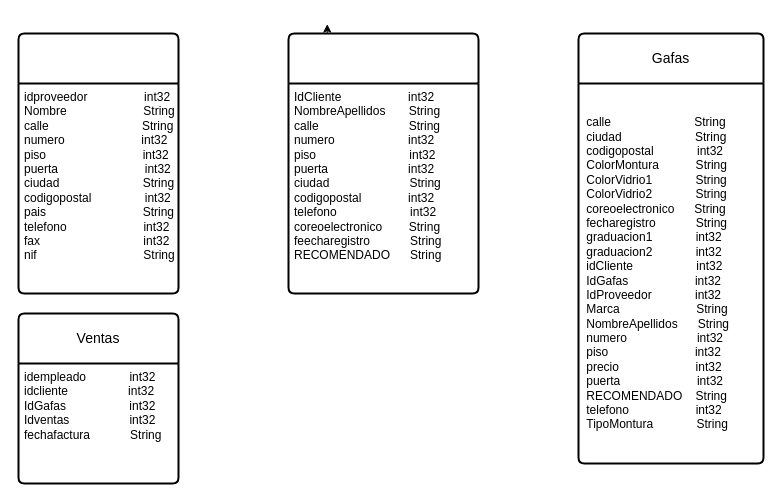
This 781x502 diagram has some shape labels left out. Each missing label, with the box of its shape:
Clientes: (287, 32, 479, 294)
proveedores: (17, 32, 179, 294)
